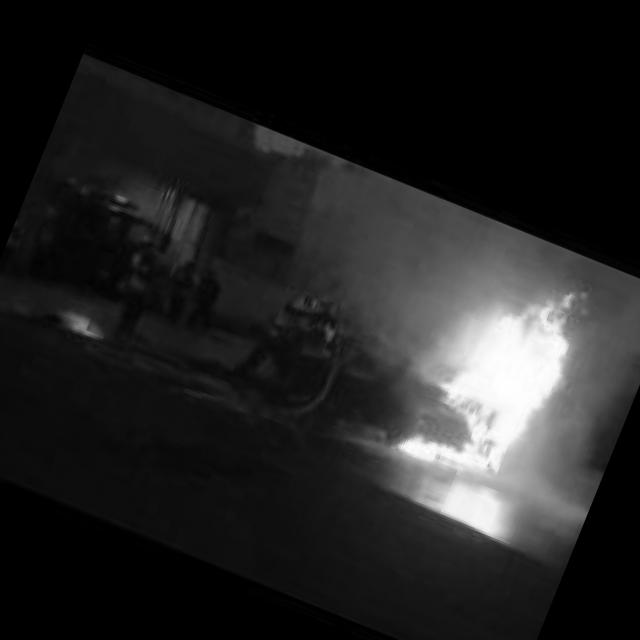fire: (385, 244, 594, 497)
